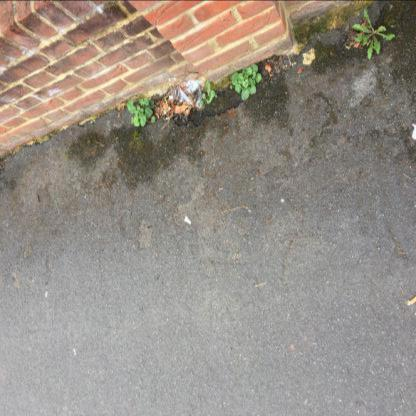Cigarette: (410, 296, 416, 305)
Plastic bag - wrapper: (168, 76, 203, 108)
Unlabeled litter: (184, 215, 191, 224)
